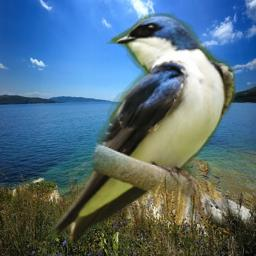Swallow: (48, 13, 237, 244)
